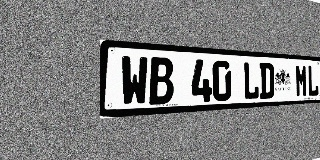0: (212, 60, 231, 102)
4: (191, 59, 212, 103)
B: (149, 57, 174, 105)
D: (259, 62, 274, 99)
L: (243, 62, 259, 100), (307, 65, 319, 97)
M: (295, 64, 307, 97)
W: (121, 55, 148, 106)
